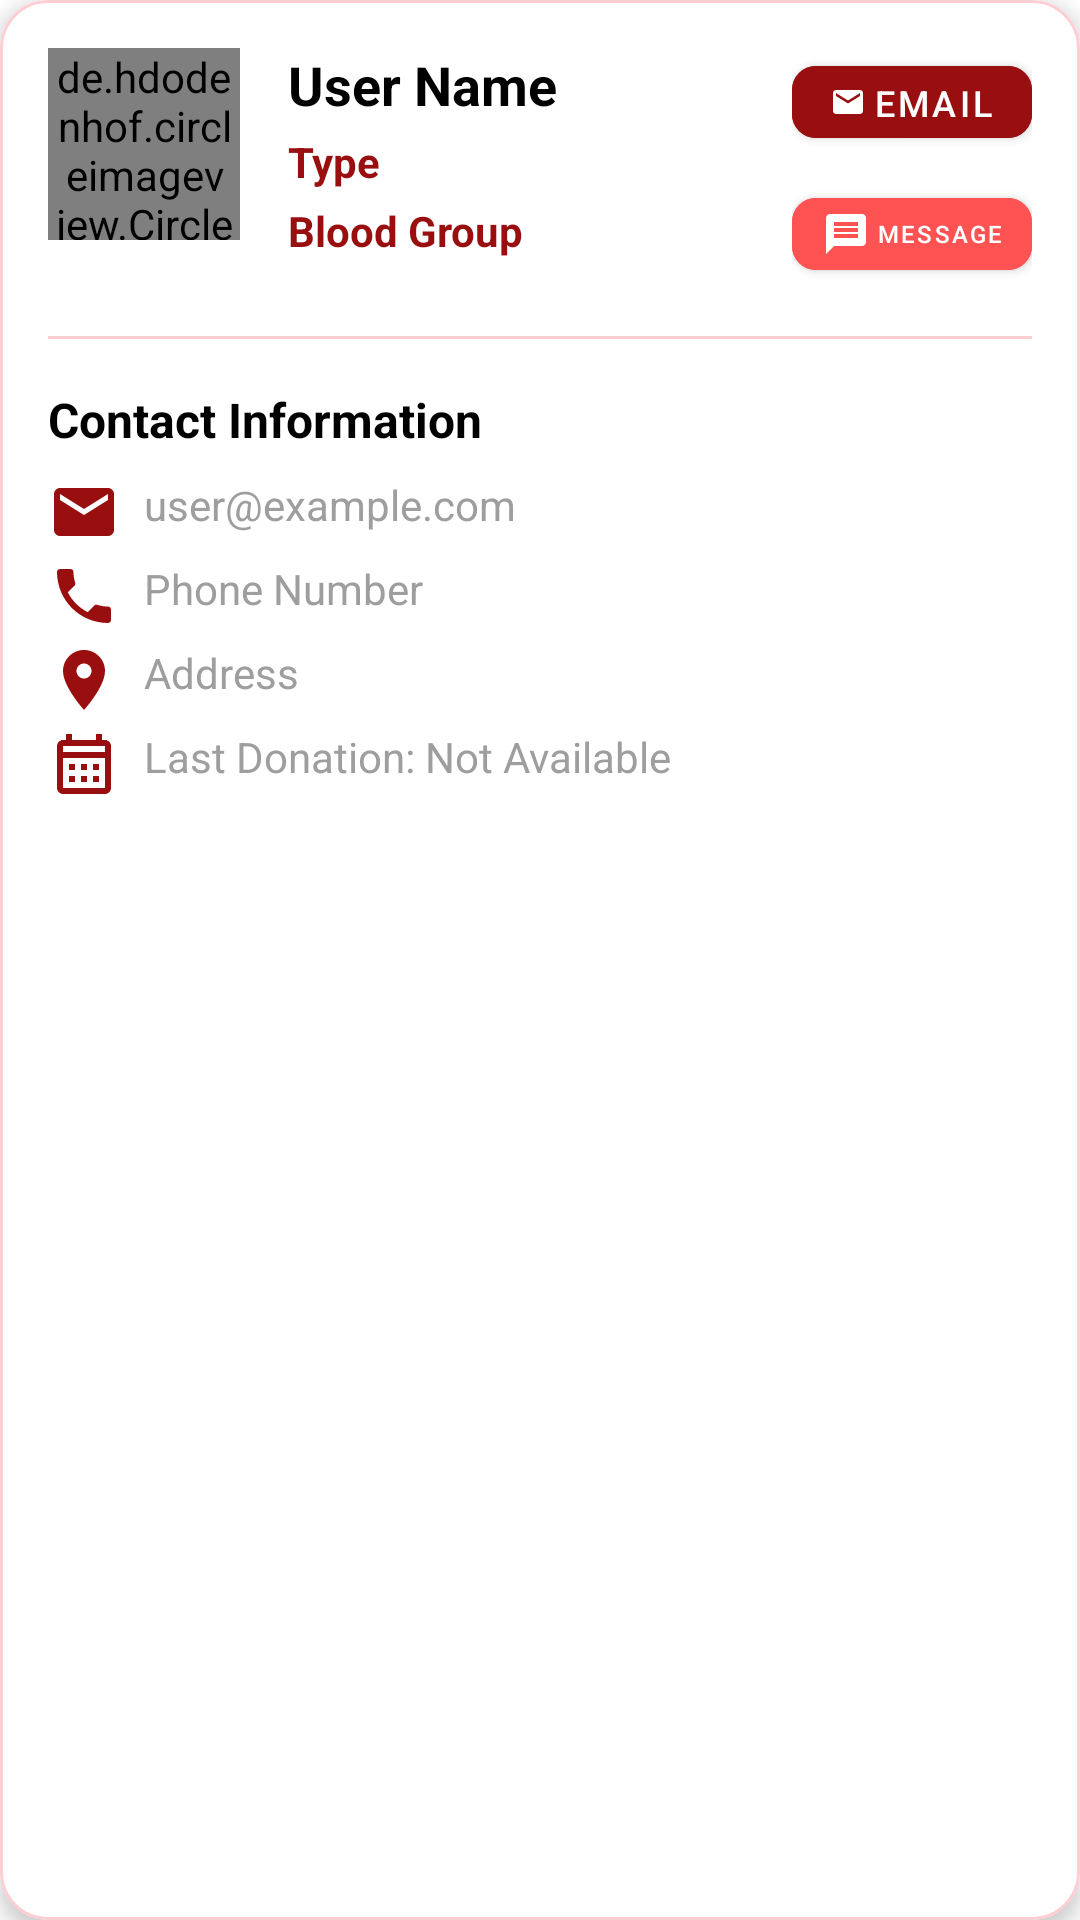

Icons on this 1080 x 1920 Android screen, each with the point to tap as (x=x, y=y):
calendar: (x=84, y=764)
email: (x=84, y=512)
location: (x=84, y=680)
